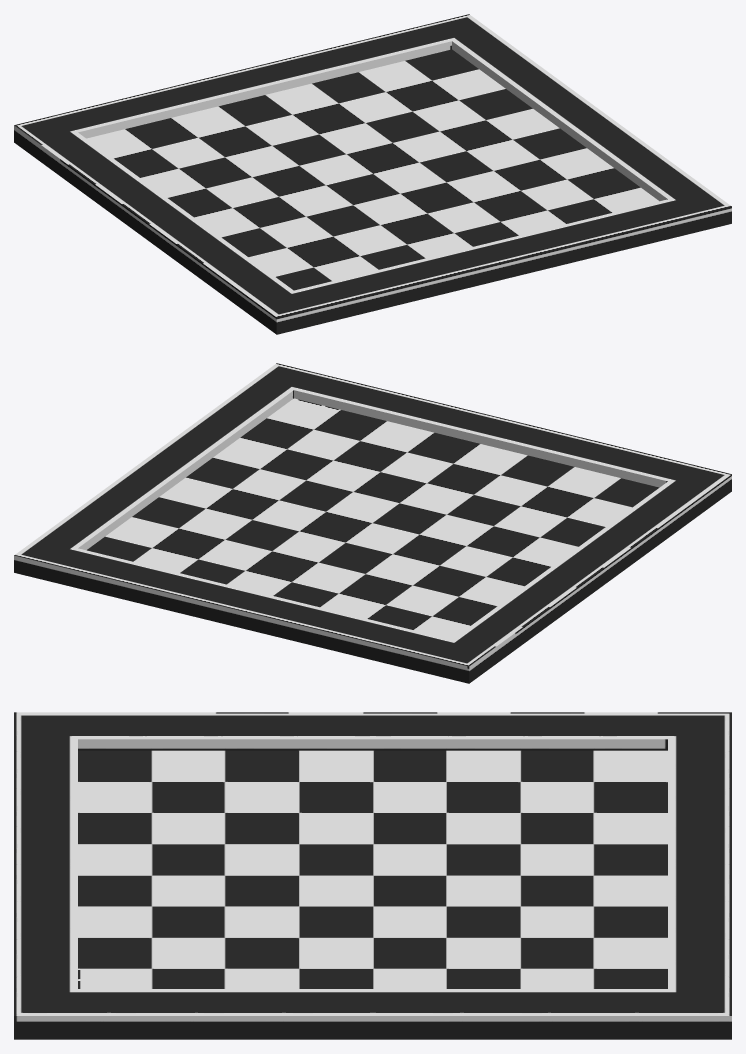
File: Board.dae
3 renders of one model, top to bottom at view 1: azimuth 30°, elevation 25°; view 2: azimuth 150°, elevation 25°; view 3: azimuth 270°, elevation 25°, orthographic. The views are drawn at different scales.
Visible parts, largest first — view 1: Board_mesh; view 2: Board_mesh; view 3: Board_mesh.
Boxes of the visible parts, x1,y1,x2,y2 form: Board_mesh: (14, 14, 731, 334); Board_mesh: (14, 363, 731, 683); Board_mesh: (14, 712, 731, 1039).
Size of the model in its own units: 14.6 by 14.6 by 0.5291.
Materials: 1 (1 with a texture image).
